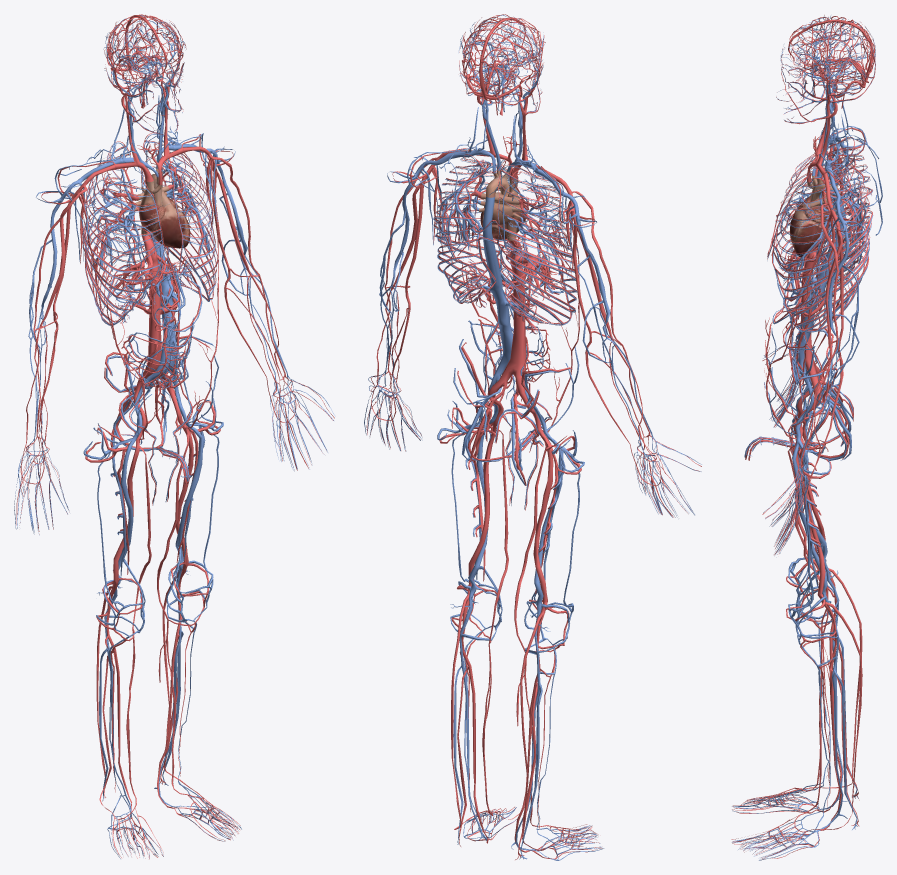
File: vascular_system.glb
3 views of the same model, side by side, from view 1: azimuth 30°, elevation 25°; view 2: azimuth 150°, elevation 25°; view 3: azimuth 270°, elevation 25° (orthographic). The views are drawn at different scales.
Visible parts, largest first — view 1: vascular_system_1, heart; view 2: vascular_system_1, heart; view 3: vascular_system_1, heart.
Boxes of the visible parts, x1,y1,x2,y2 form: vascular_system_1: (14,14,335,859); heart: (134,168,190,248); vascular_system_1: (364,14,701,860); heart: (479,170,525,240); vascular_system_1: (731,15,882,860); heart: (790,175,840,257).
Size of the model in its own units: 0.7485 by 1.83 by 0.3102.
3 materials, 1 textured.
